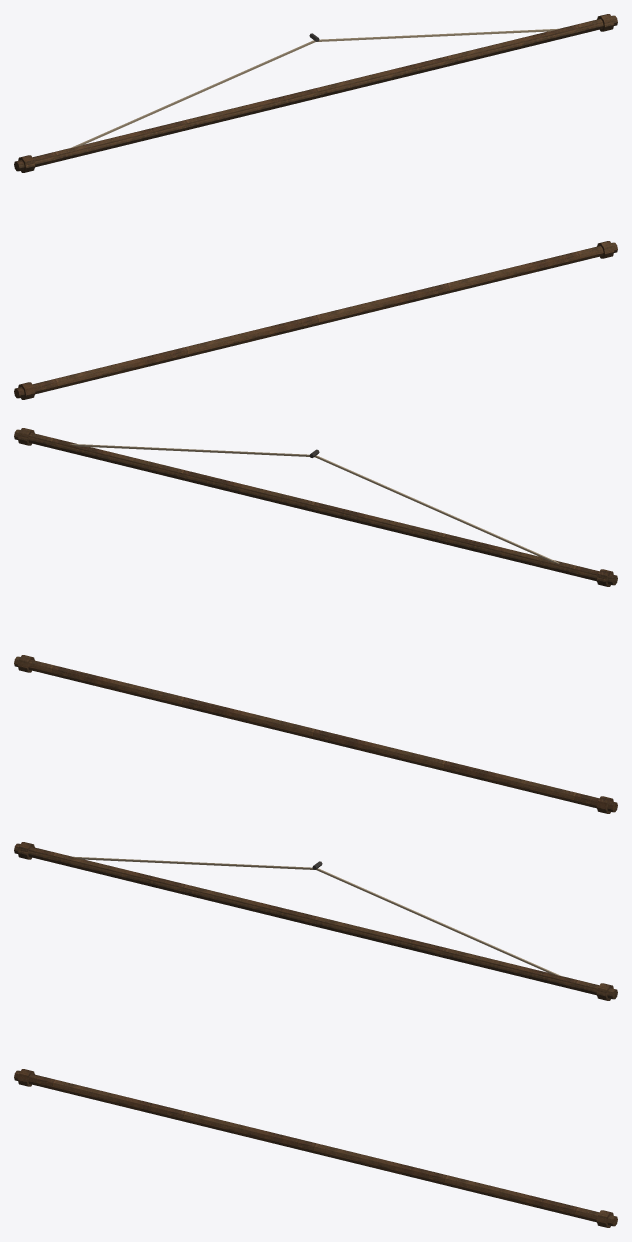
Rendered from map_rods.glb.
3 renders of one model, top to bottom at view 1: azimuth 30°, elevation 25°; view 2: azimuth 150°, elevation 25°; view 3: azimuth 330°, elevation 25°, orthographic.
Visible parts, largest first — view 1: map_rods; view 2: map_rods; view 3: map_rods.
Boxes of the visible parts, x1,y1,x2,y2 form: map_rods: (14, 14, 617, 399); map_rods: (14, 428, 617, 813); map_rods: (14, 842, 617, 1227).
Bounding box in the file's own units: 2.29 × 1.06 × 0.058.
3 materials, 1 textured.
